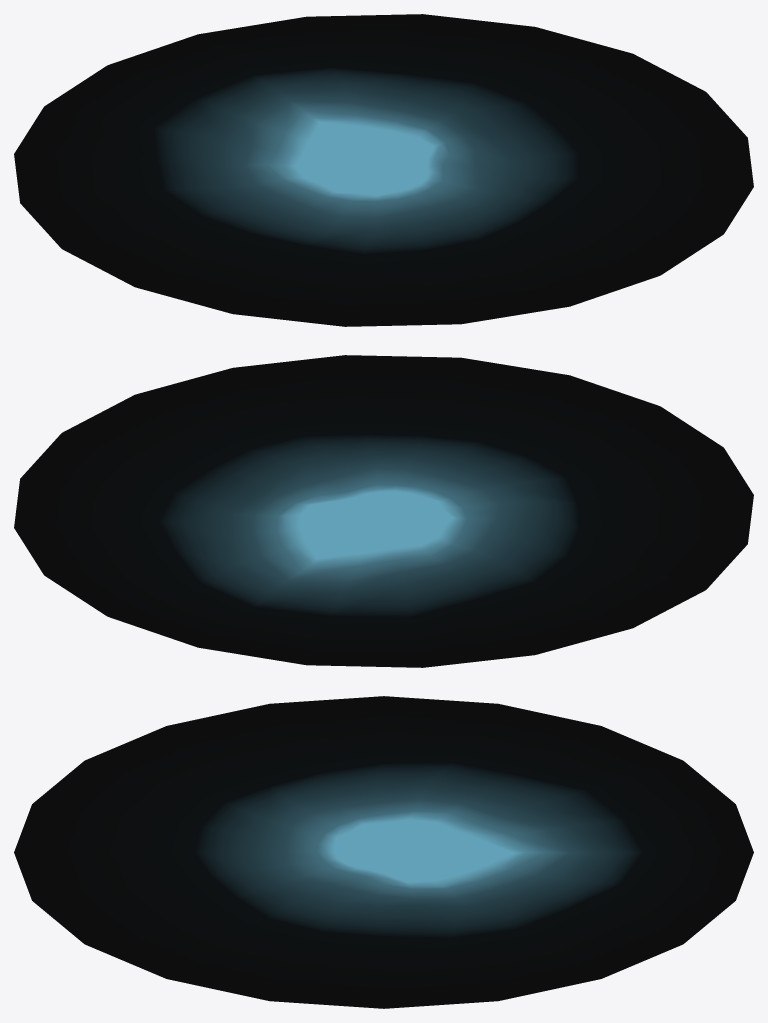
File: water_meshcc.fbx
3 renders of one model, top to bottom at view 1: azimuth 30°, elevation 25°; view 2: azimuth 150°, elevation 25°; view 3: azimuth 270°, elevation 25°, orthographic.
Parts seen in each view (by area): view 1: water_meshcc; view 2: water_meshcc; view 3: water_meshcc.
Part boxes in pixels (x1,y1,x2,y2): water_meshcc: (14, 14, 753, 326); water_meshcc: (14, 355, 753, 667); water_meshcc: (14, 696, 753, 1008).
Size of the model in its own units: 50000 by 0 by 50000.
